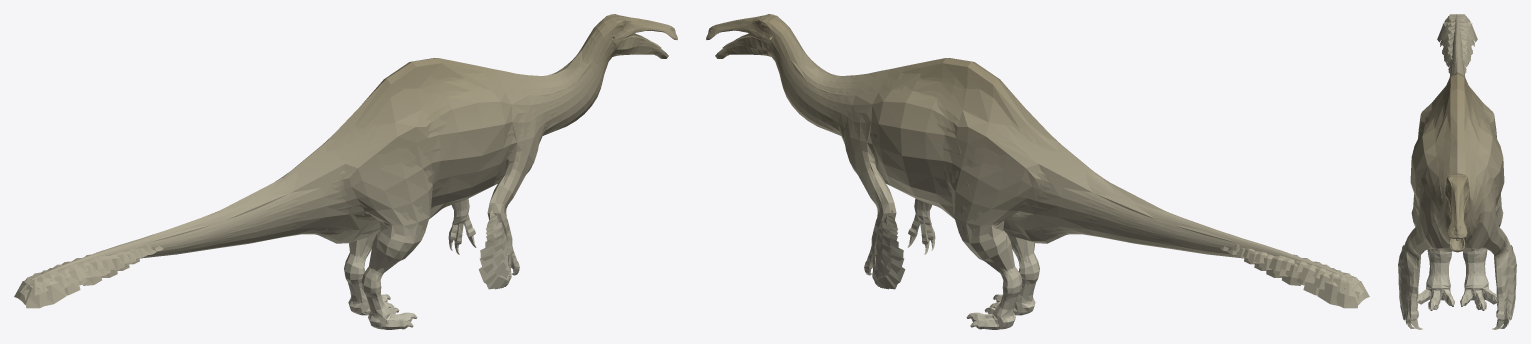
The model's file is deinocheirus.glb.
The picture shows the model from 3 angles, left to right: view 1: azimuth 30°, elevation 25°; view 2: azimuth 150°, elevation 25°; view 3: azimuth 270°, elevation 25°; orthographic projection.
Visible parts, largest first — view 1: world; view 2: world; view 3: world.
Part boxes in pixels (x1=…): world: x1=14, y1=14, x2=677, y2=329; world: x1=706, y1=14, x2=1369, y2=329; world: x1=1398, y1=14, x2=1516, y2=329.
Size of the model in its own units: 0.1116 by 0.0402 by 0.0178.
